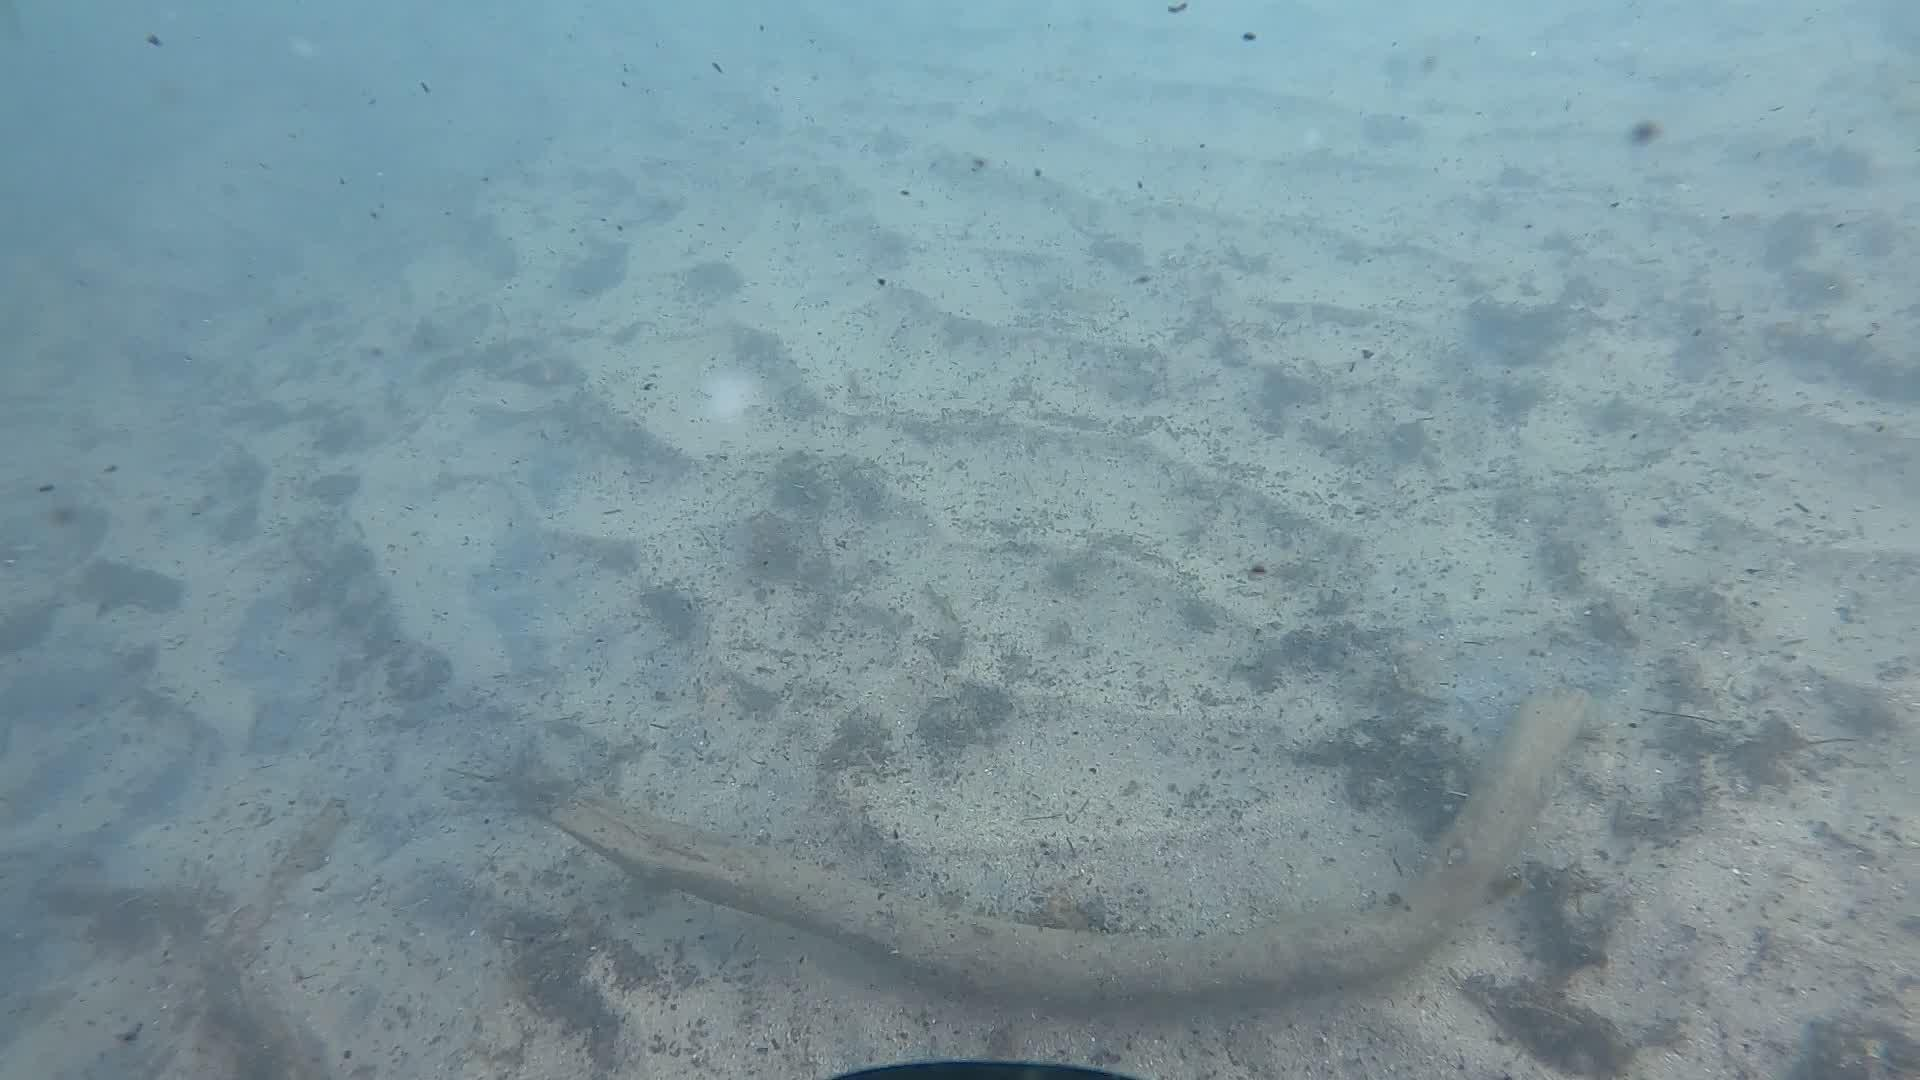wood: (545, 692, 1588, 1000)
